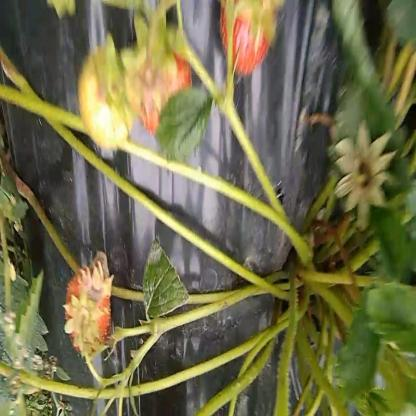ripe: (214, 0, 276, 80), (61, 263, 114, 356), (140, 48, 192, 136)
unripe: (73, 47, 134, 150)
